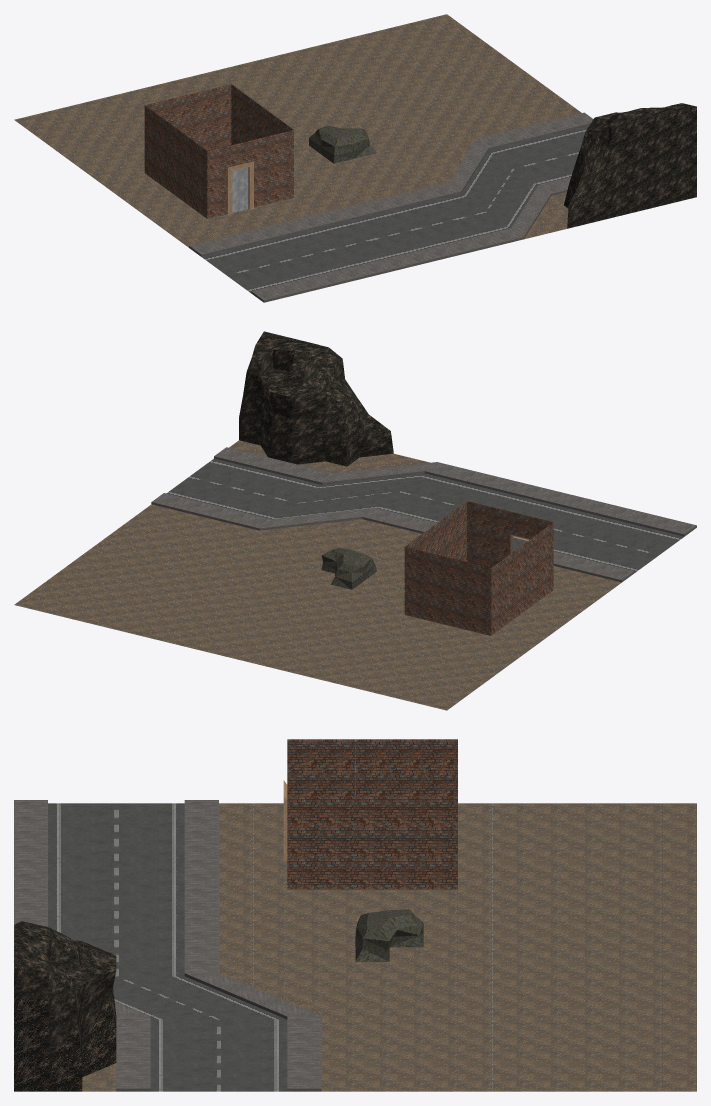
The model's file is carretera.gltf.
The picture shows the model from 3 angles, top to bottom: view 1: azimuth 30°, elevation 25°; view 2: azimuth 150°, elevation 25°; view 3: azimuth 270°, elevation 25°; orthographic projection. The views are drawn at different scales.
Parts seen in each view (by area): view 1: Grid; view 2: Grid; view 3: Grid.
Part boxes in pixels (<box>): Grid: <box>14,14,696,302</box>; Grid: <box>14,331,696,710</box>; Grid: <box>14,739,696,1091</box>.
Bounding box in the file's own units: 20 × 4 × 20.
1 material, 1 textured.
